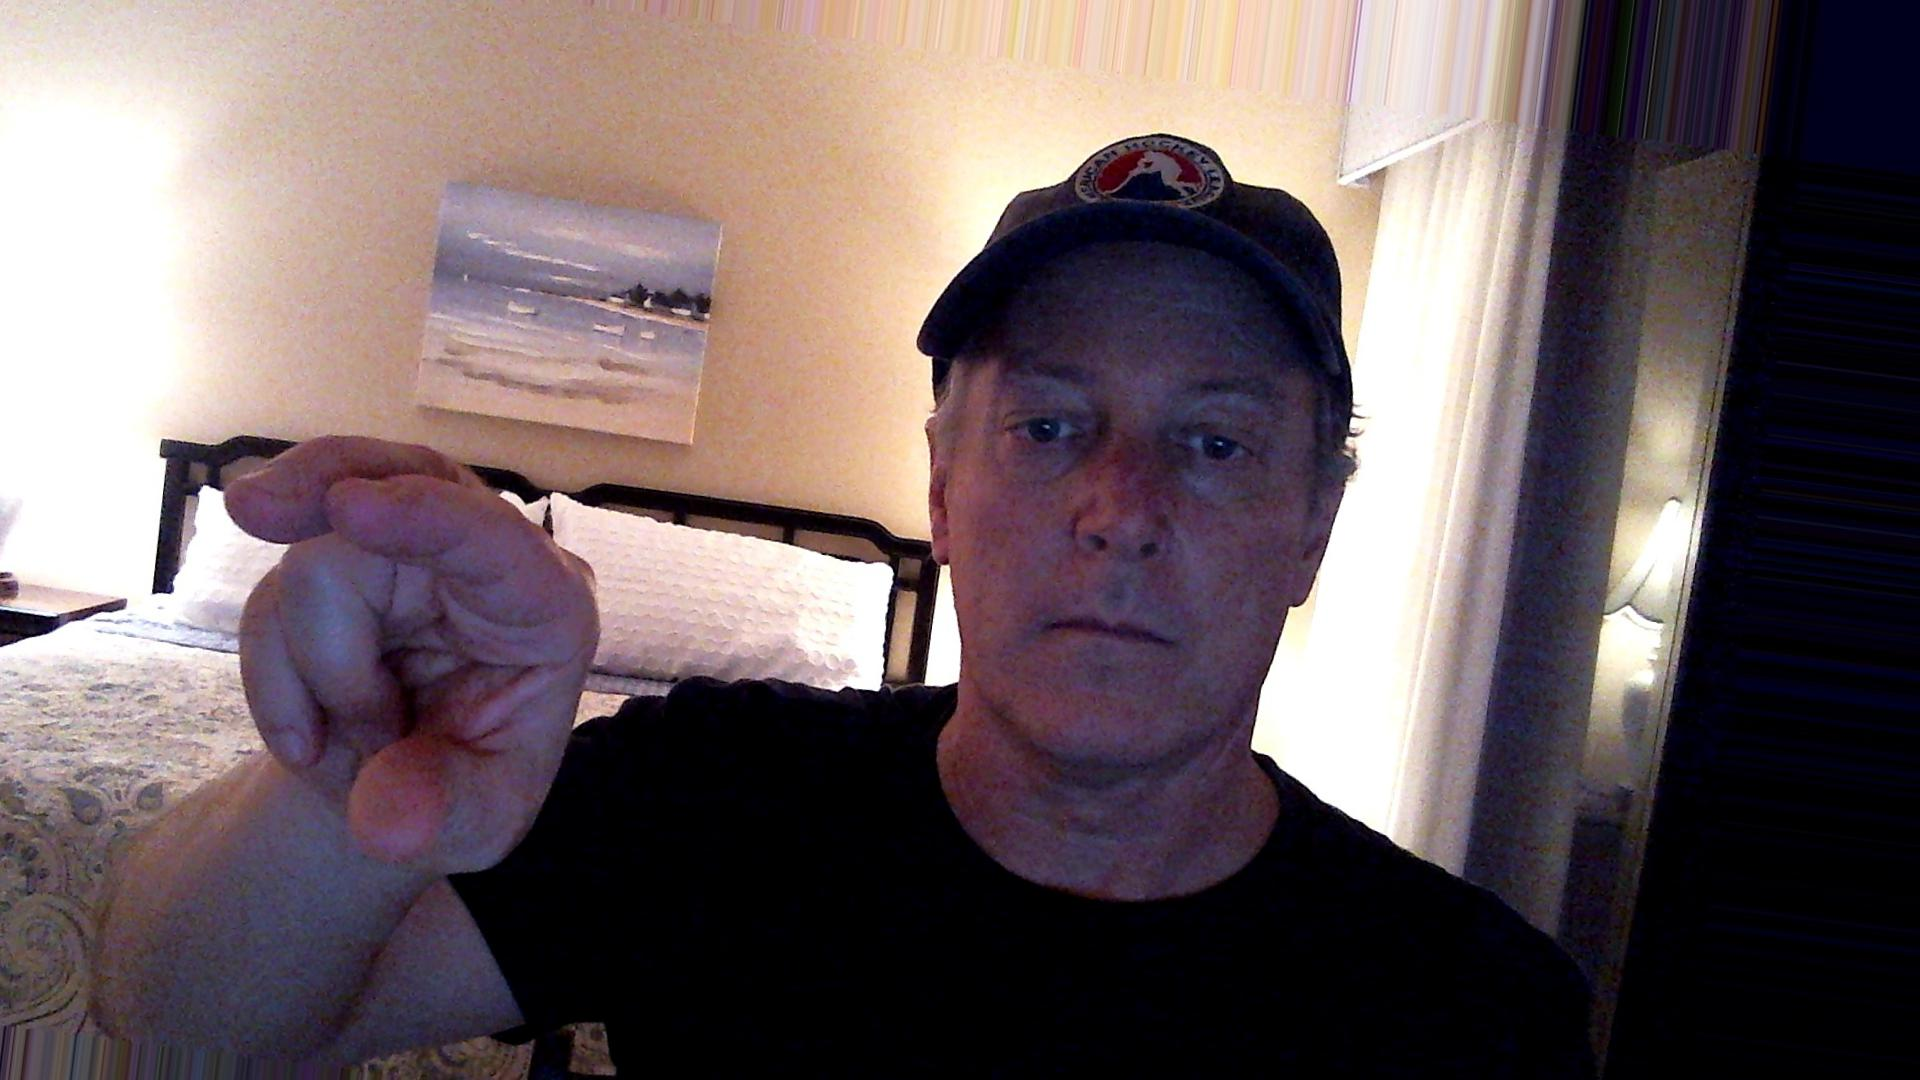No: (164, 415, 636, 891)
